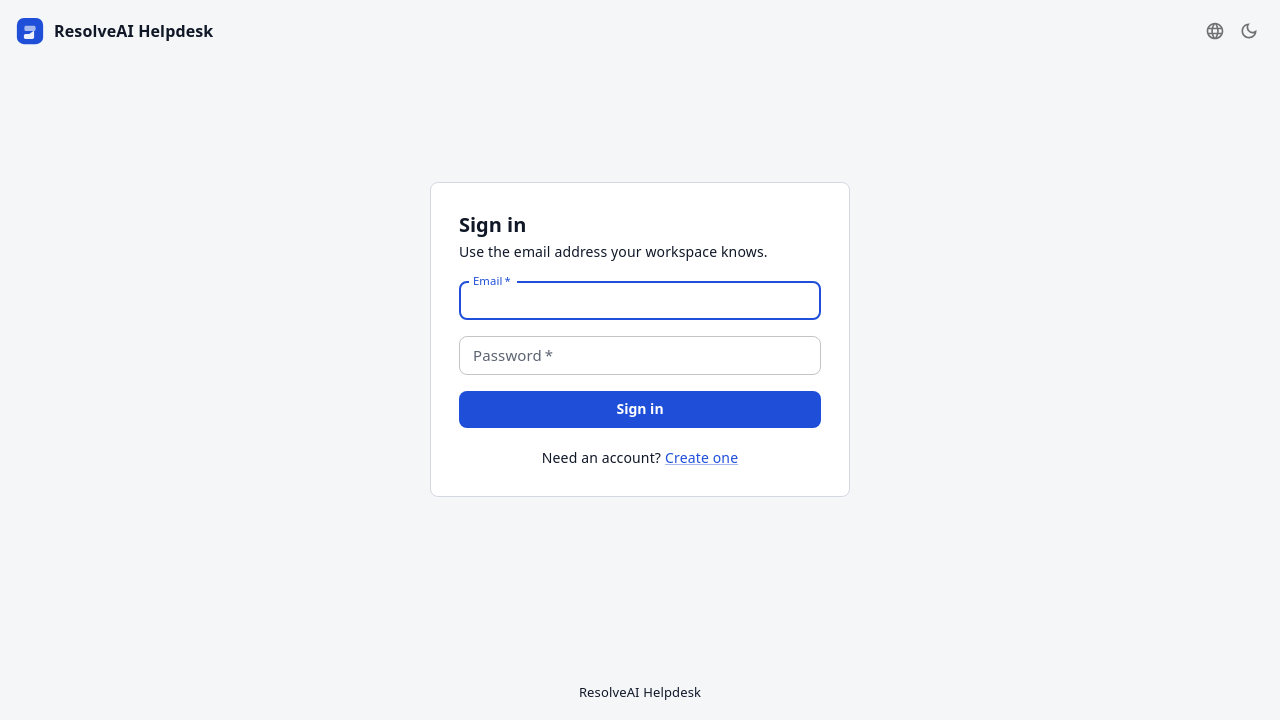
it: LoginPage › places server field errors on the matching control
Type "not-an-email" into the field labelled "Email *".
click(640, 301); type("not-an-email")  # box left=459, top=282, right=821, bottom=320
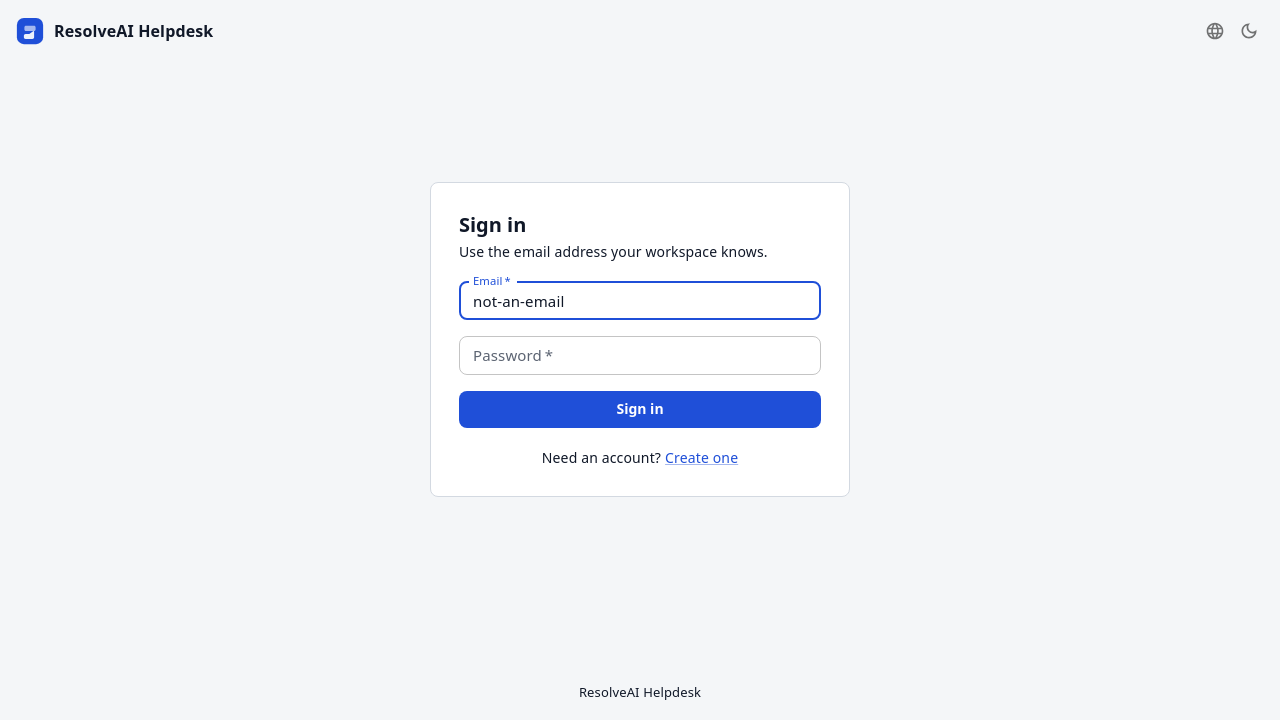
Type "secret-value" into the password field labelled "Password *".
click(640, 356); type("secret-value")  # box left=459, top=336, right=821, bottom=375
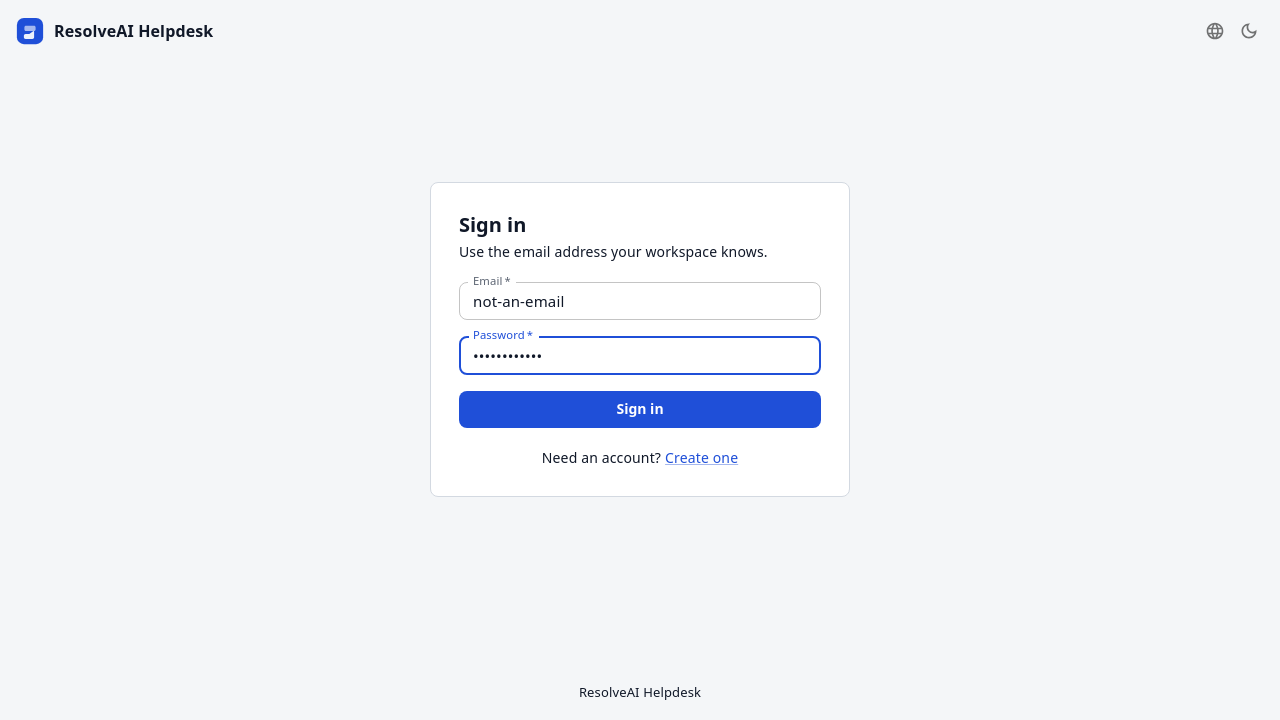
Click the button "Sign in".
click(640, 409)  # box left=459, top=391, right=821, bottom=428
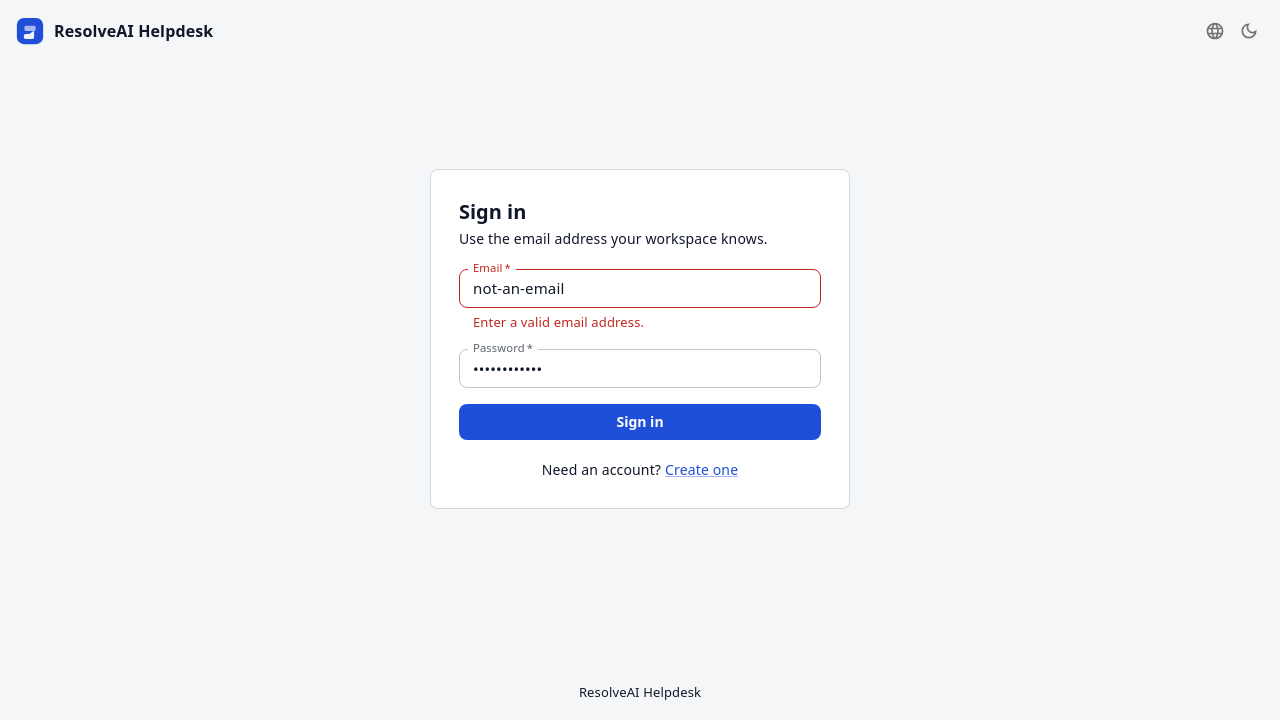
Check: the text "Enter a valid email address." is shown, box left=473, top=313, right=644, bottom=331
